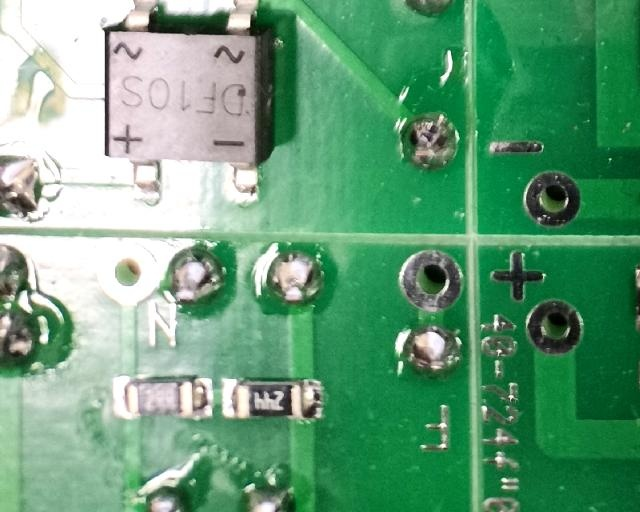chip-resistor: (220, 372, 329, 423), (111, 372, 215, 421)
ic: (97, 0, 282, 209)
